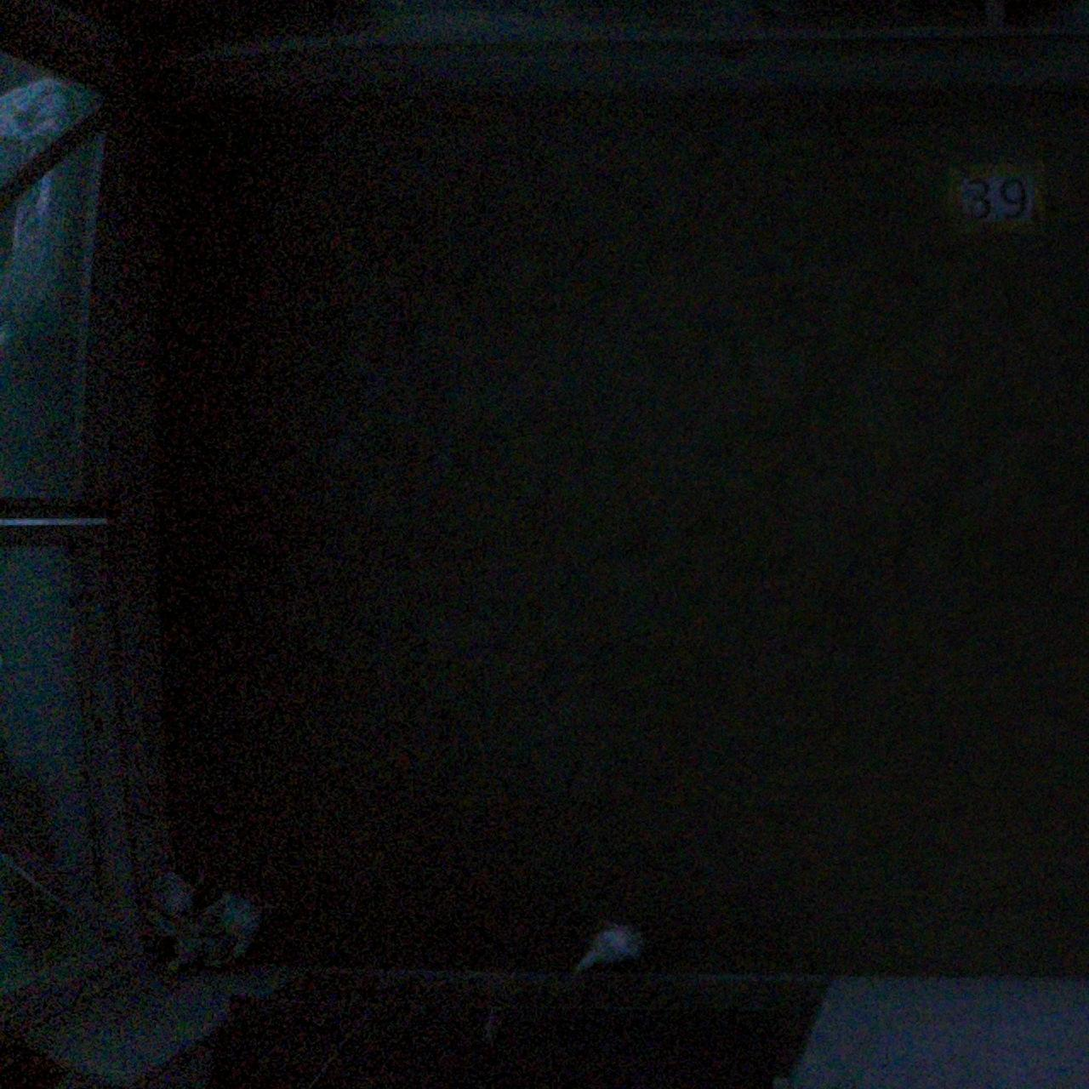chicken: (206, 889, 272, 966), (155, 872, 199, 981), (584, 920, 643, 968)
